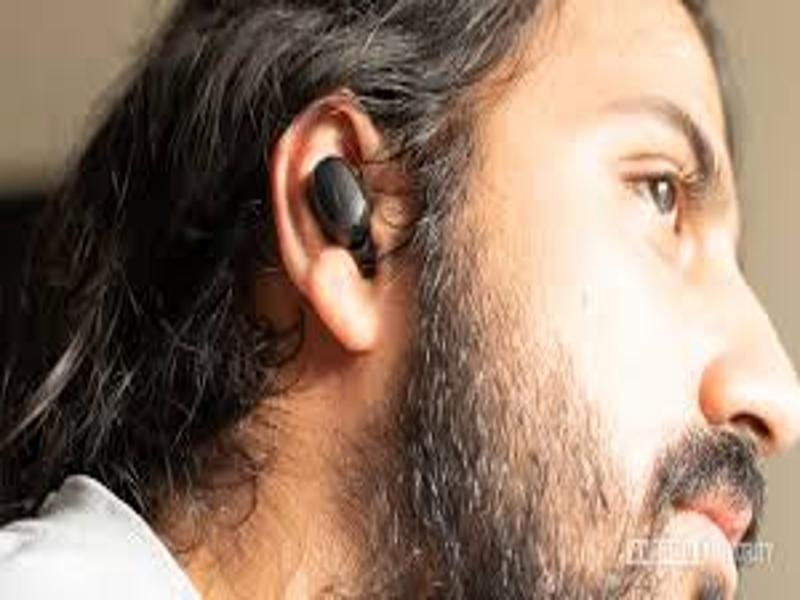headphone: (306, 151, 377, 264)
